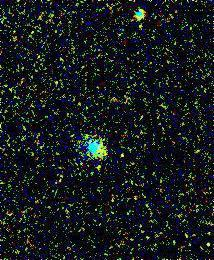star: (82, 154, 112, 184)
